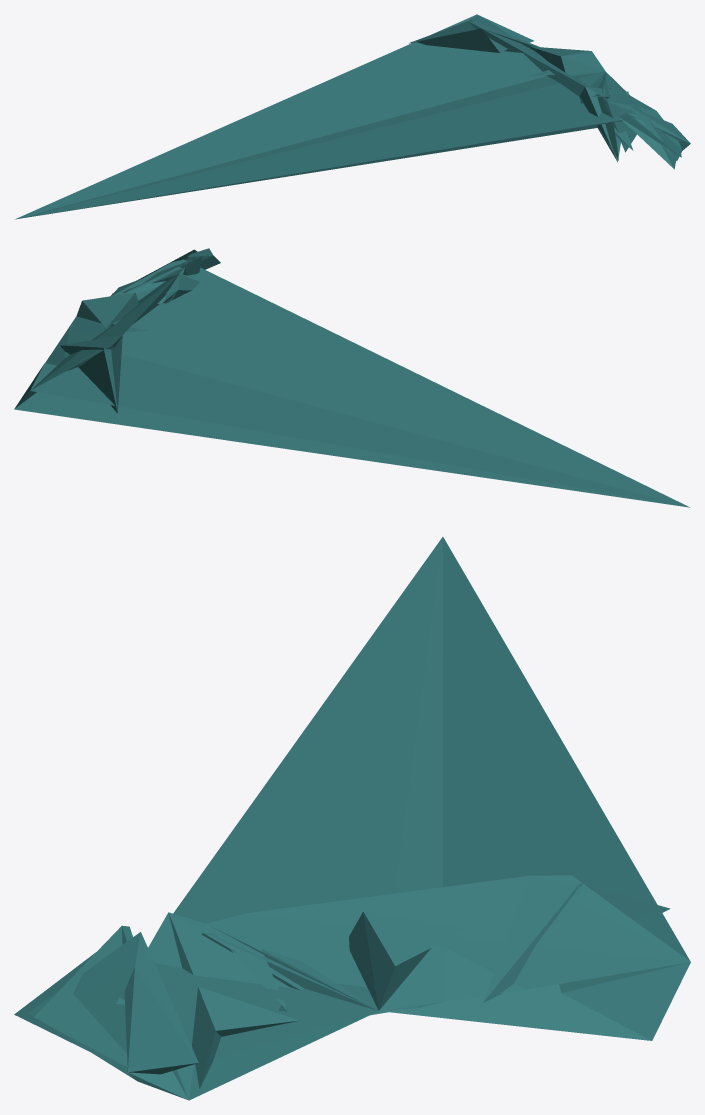
The model's file is Edited Larger Killer T cell .fbx.
3 views of the same model, one above another, from view 1: azimuth 30°, elevation 25°; view 2: azimuth 150°, elevation 25°; view 3: azimuth 270°, elevation 25° (orthographic). The views are drawn at different scales.
Parts seen in each view (by area): view 1: Small_Killer_T_Cell:Killer_T_Cell:Mesh; view 2: Small_Killer_T_Cell:Killer_T_Cell:Mesh; view 3: Small_Killer_T_Cell:Killer_T_Cell:Mesh.
Boxes of the visible parts, x1,y1,x2,y2 form: Small_Killer_T_Cell:Killer_T_Cell:Mesh: [14, 14, 690, 219]; Small_Killer_T_Cell:Killer_T_Cell:Mesh: [14, 248, 689, 507]; Small_Killer_T_Cell:Killer_T_Cell:Mesh: [14, 537, 690, 1100].
Size of the model in its own units: 5.89 by 0.6809 by 3.17.
